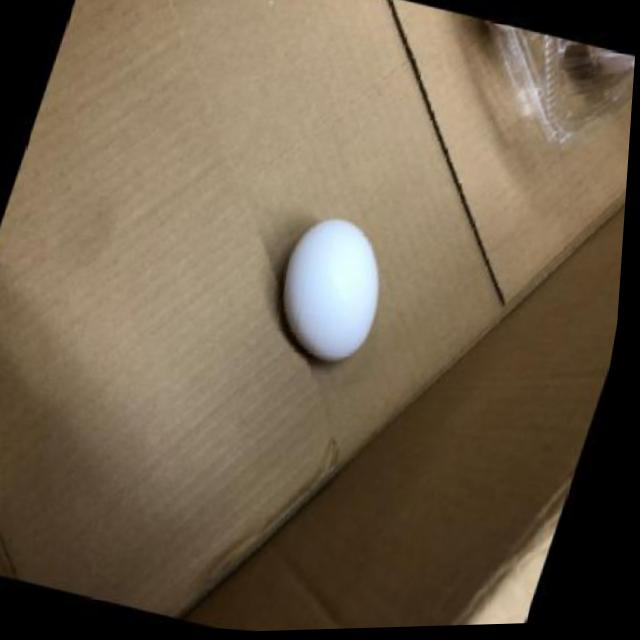egg: (269, 206, 404, 372)
